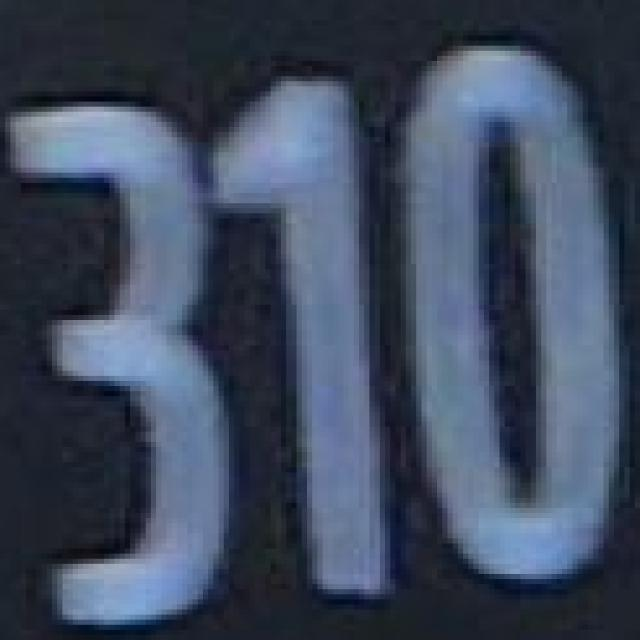character: (402, 35, 640, 591), (0, 95, 238, 638), (207, 70, 401, 606)
